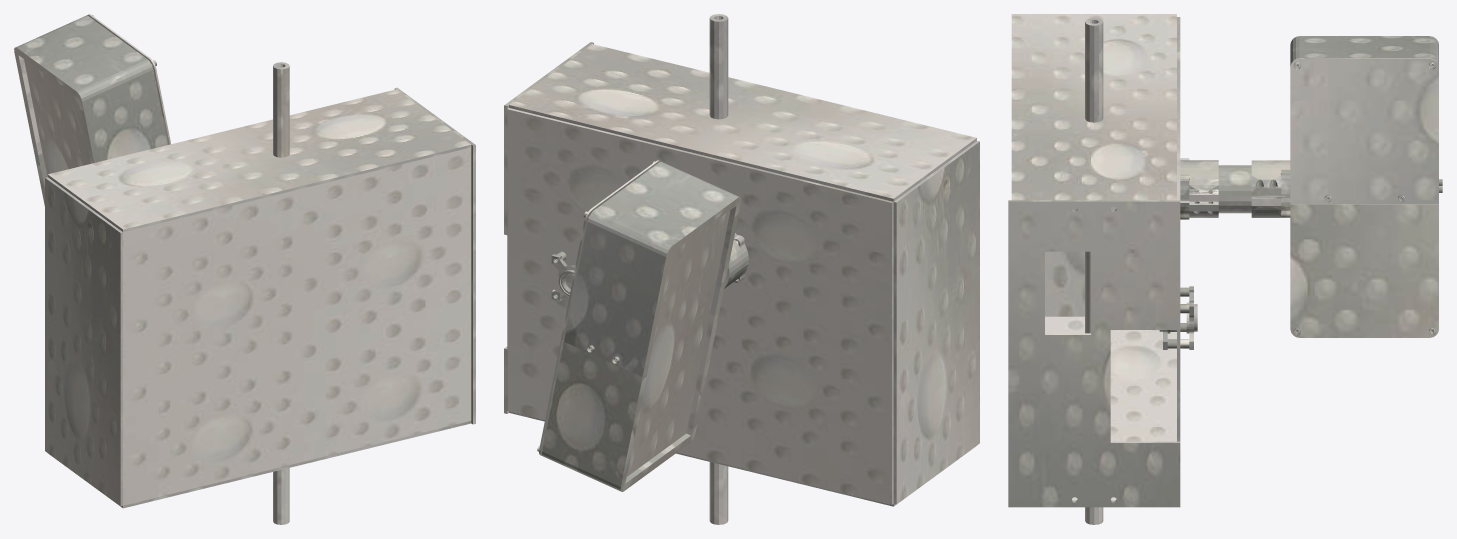
The model's file is body_bright.dae.
The picture shows the model from 3 angles, left to right: view 1: azimuth 30°, elevation 25°; view 2: azimuth 150°, elevation 25°; view 3: azimuth 270°, elevation 25°; orthographic projection. The views are drawn at different scales.
Parts seen in each view (by area): view 1: body; view 2: body; view 3: body.
Part boxes in pixels (<box>): body: <box>14,14,475,524</box>; body: <box>504,14,979,524</box>; body: <box>1008,14,1442,524</box>.
Bounding box in the file's own units: 0.3096 × 0.3004 × 0.381.
Materials: 1 (1 with a texture image).
